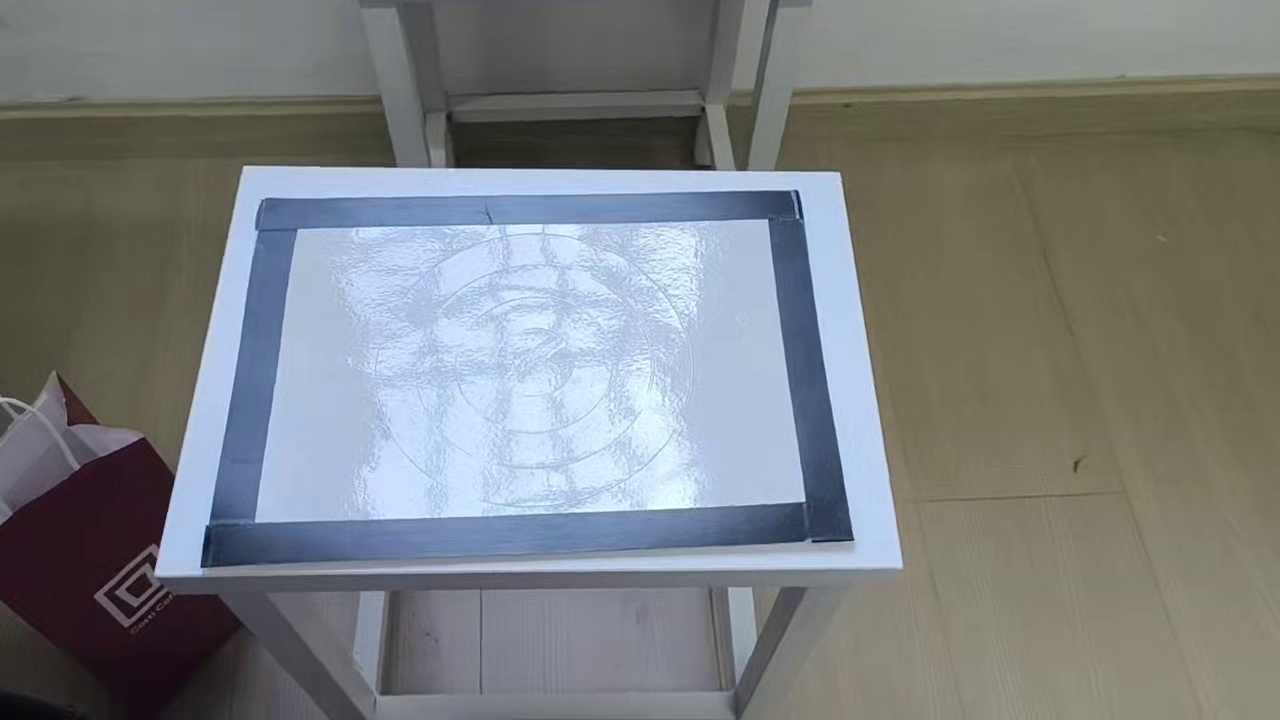board: (203, 187, 851, 564)
